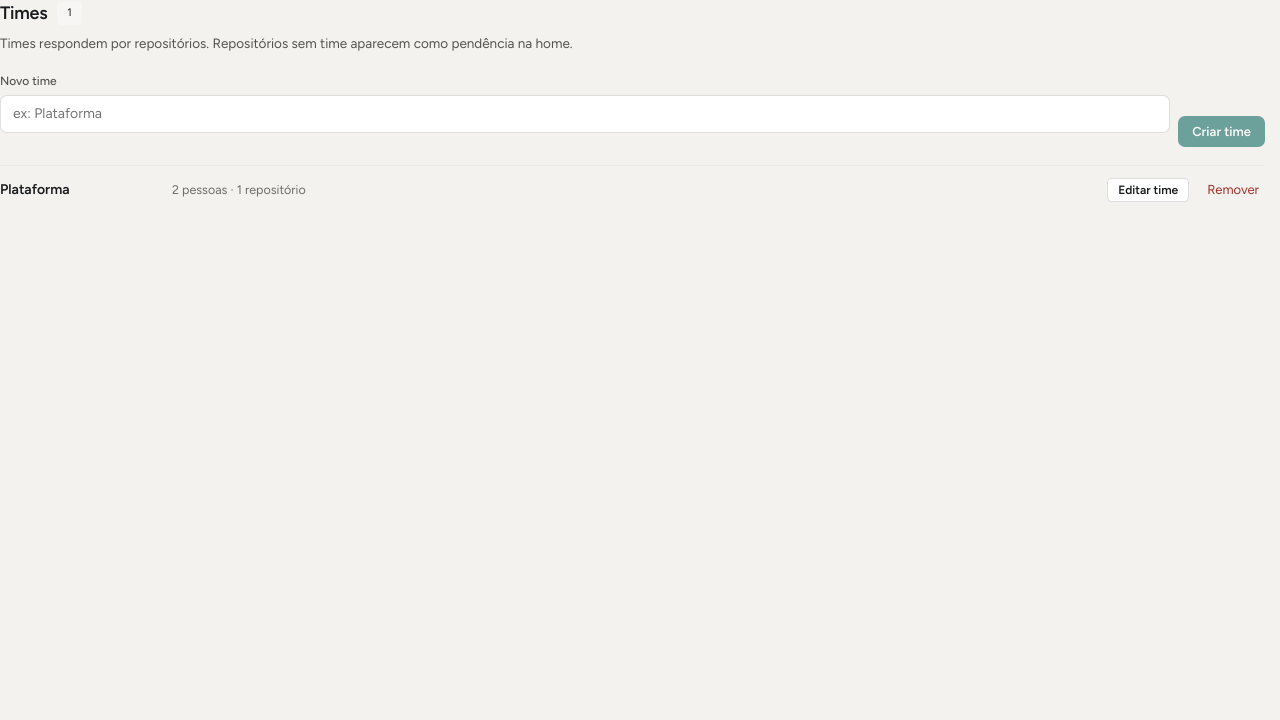
Test: TeamEditModal, through the teams settings › lists only the repositories the team owns
Click the button "Editar time" at (1148, 190), box [1107,178,1189,202]
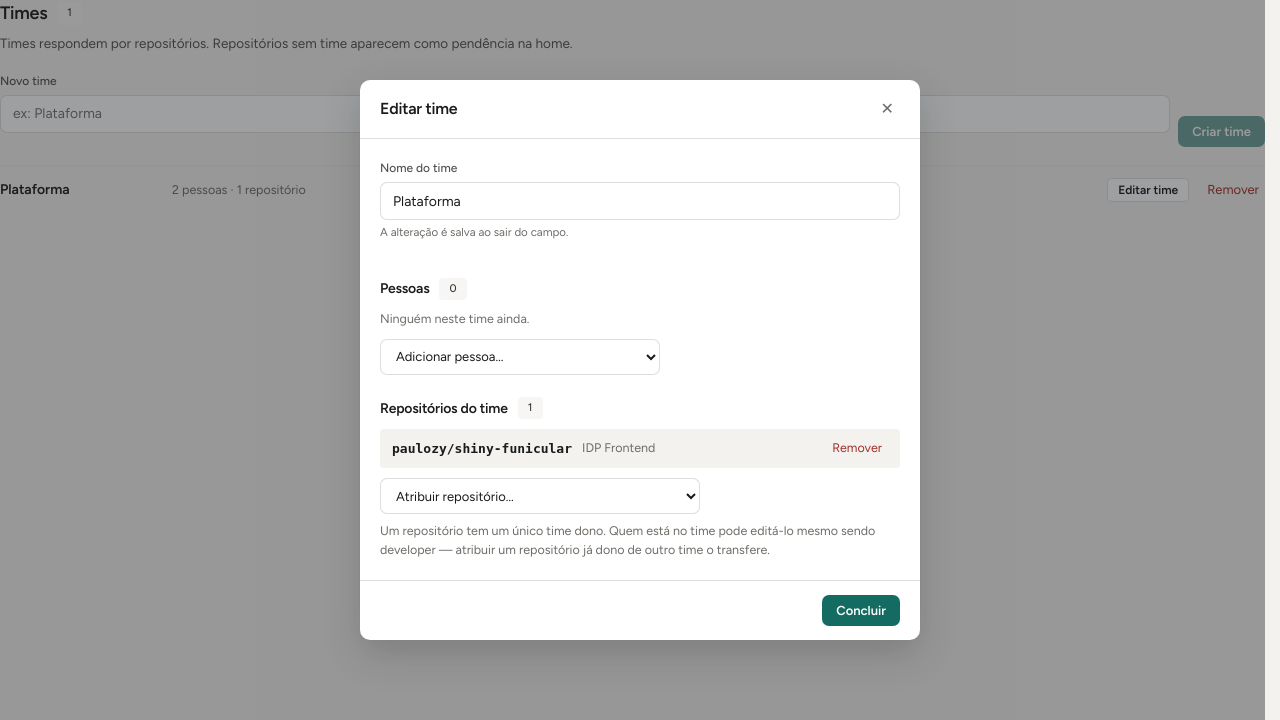
Check: the text "paulozy/shiny-funicular" is shown, box [392,439,572,458]
